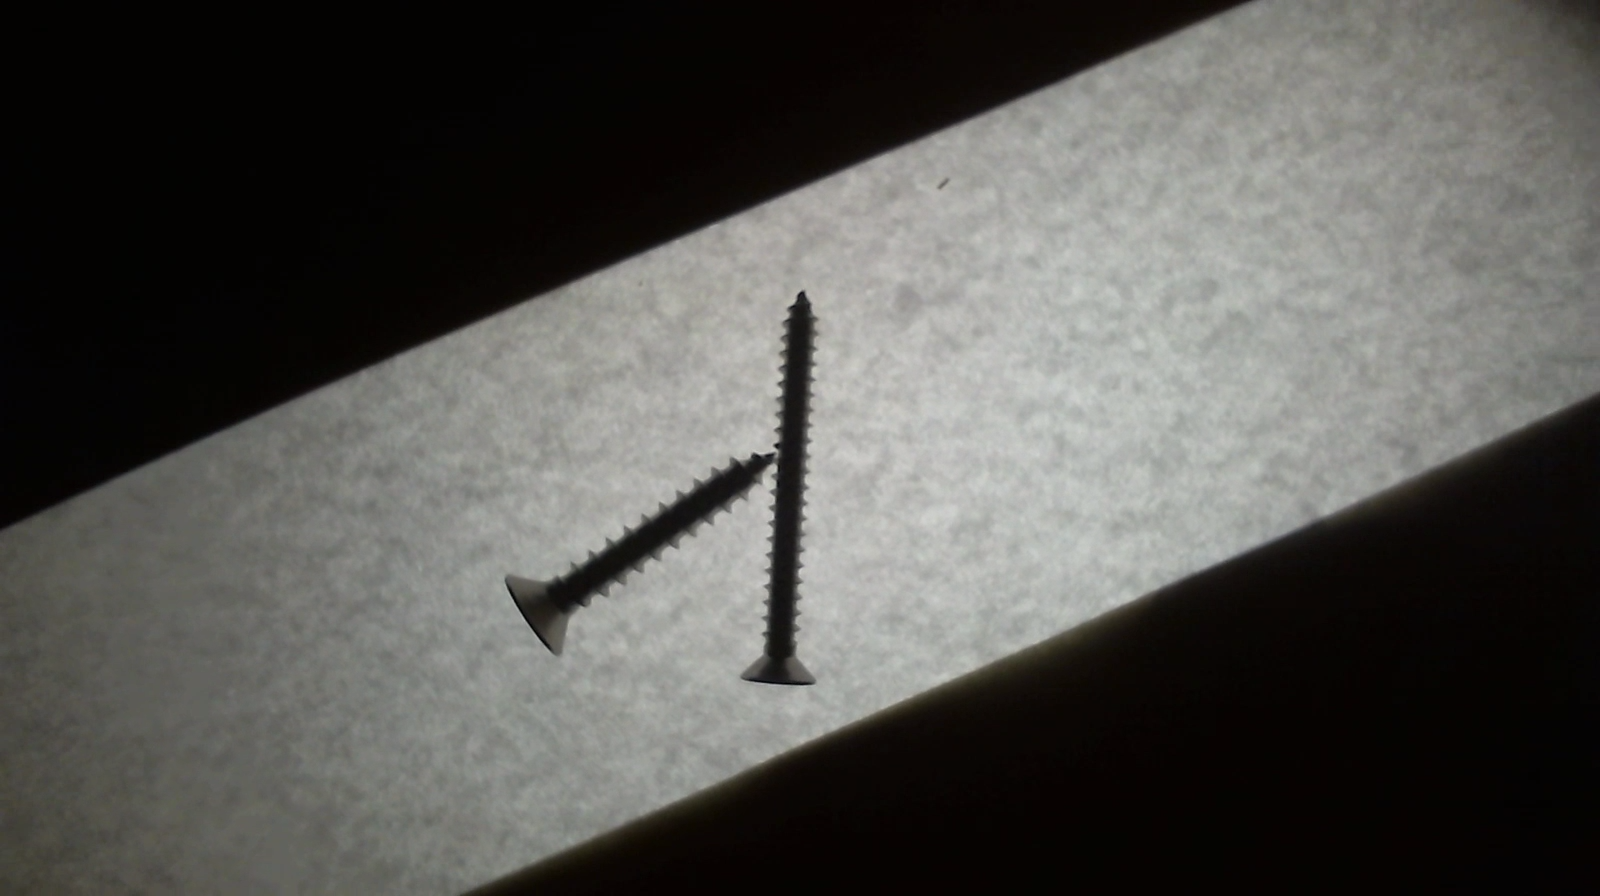S001: (491, 440, 780, 665)
S002: (732, 284, 824, 689)
